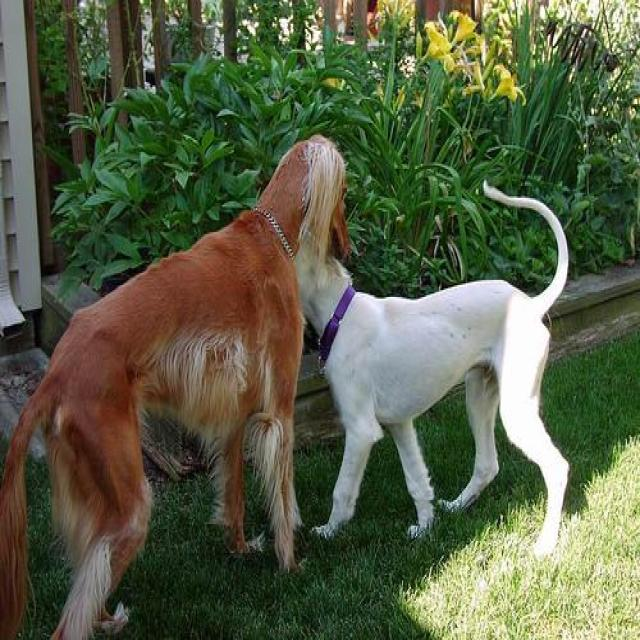saluki: (0, 134, 352, 636)
